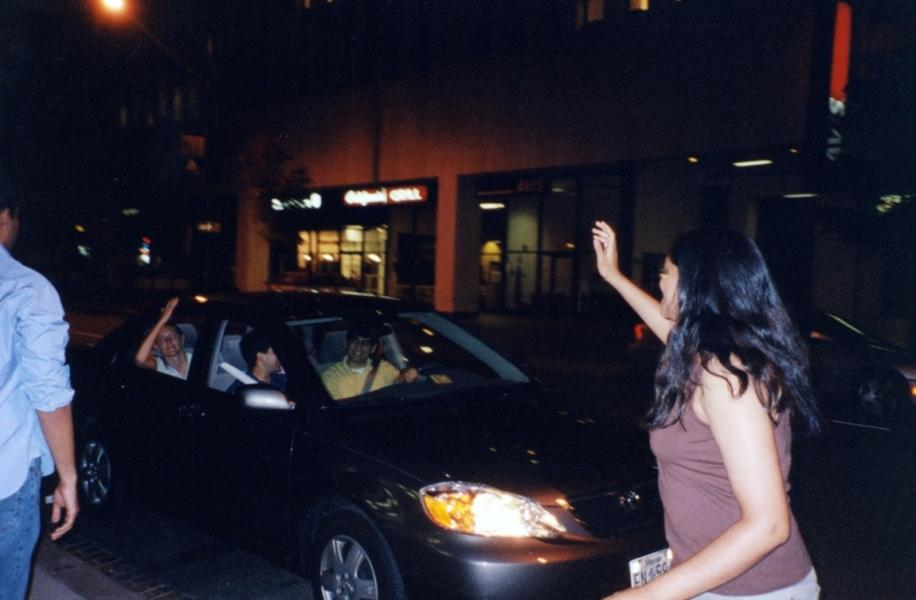person: (590, 219, 822, 600)
